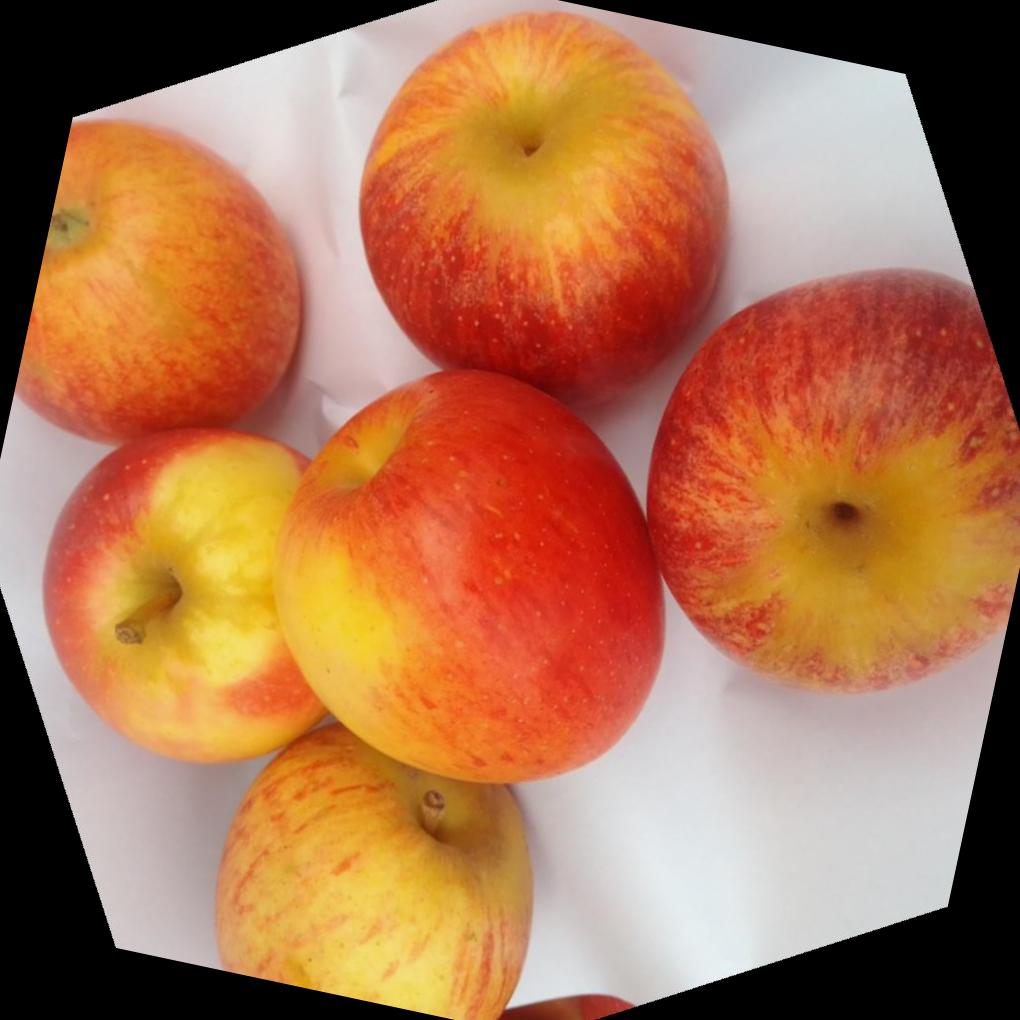FreshGuava: (14, 10, 1020, 1020)
